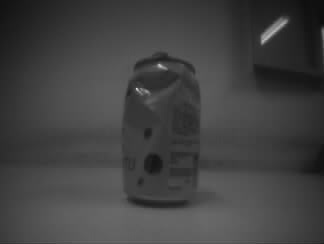Tin can: (119, 49, 201, 206)
